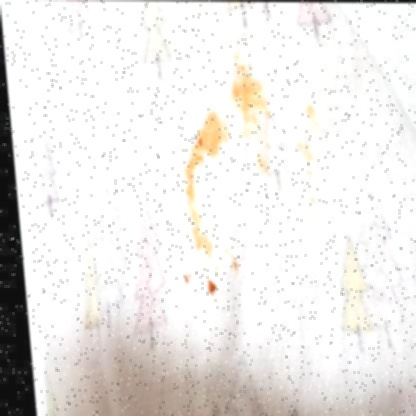kimchi: (164, 162, 216, 254), (228, 62, 276, 143), (182, 109, 224, 158), (296, 140, 322, 204), (203, 280, 226, 306), (253, 150, 271, 178), (178, 272, 195, 292), (229, 257, 243, 273), (306, 104, 315, 119)
